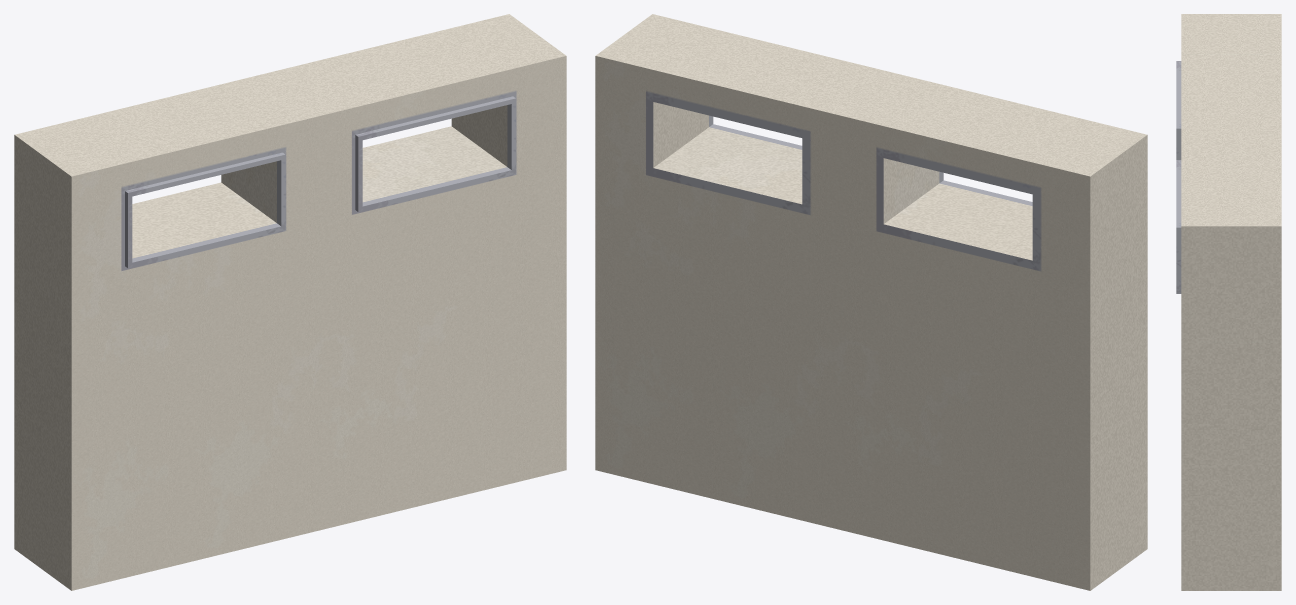
The model's file is Einrichtung_Wand_Fenster.fbx.
3 renders of one model, left to right at view 1: azimuth 30°, elevation 25°; view 2: azimuth 150°, elevation 25°; view 3: azimuth 270°, elevation 25°, orthographic. The views are drawn at different scales.
Visible parts, largest first — view 1: wall; view 2: wall; view 3: wall.
Part boxes in pixels (x1,y1,x2,y2): wall: [14, 14, 566, 590]; wall: [595, 14, 1147, 590]; wall: [1176, 14, 1281, 590].
Bounding box in the file's own units: 500 × 400 × 105.
